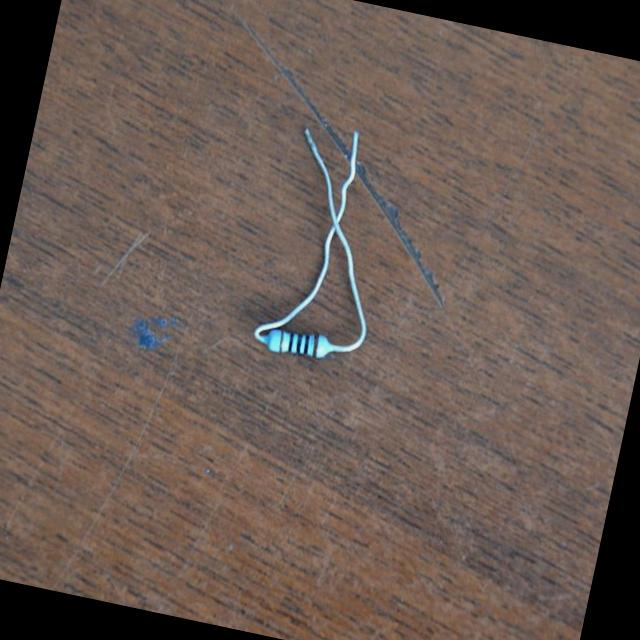Resistor: (262, 327, 328, 362)
black: (286, 333, 294, 354), (302, 335, 309, 355)
brown: (277, 329, 284, 353), (311, 335, 318, 357)
